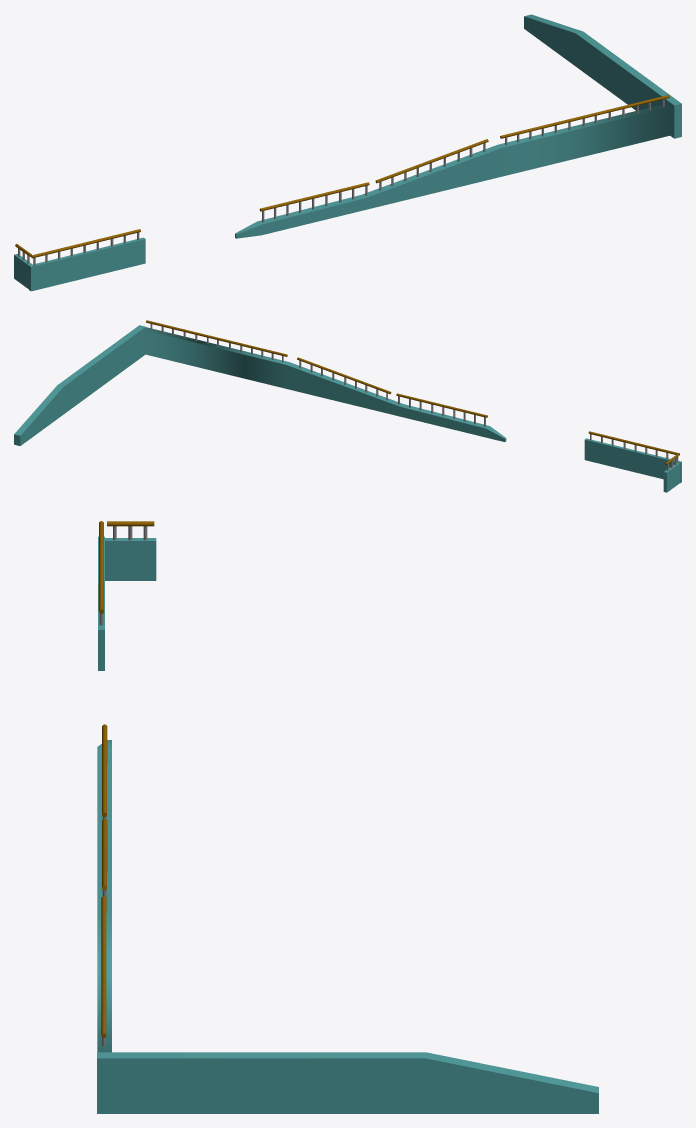
Rendered from railing_wall_s.fbx.
3 views of the same model, one above another, from view 1: azimuth 30°, elevation 25°; view 2: azimuth 150°, elevation 25°; view 3: azimuth 270°, elevation 25° (orthographic). The views are drawn at different scales.
Visible parts, largest first — view 1: railing_wall_2, railing_wall_3, railing_wall_1_3, railing_wall_1_4; view 2: railing_wall_2, railing_wall_3, railing_wall_1_3, railing_wall_1_4; view 3: railing_wall_3, railing_wall_2, railing_wall_1_4, railing_wall_1_3.
Part boxes in pixels (x1,y1,x2,y2): railing_wall_2: (235, 95, 674, 238); railing_wall_3: (524, 14, 681, 138); railing_wall_1_3: (29, 229, 145, 291); railing_wall_1_4: (14, 244, 32, 289); railing_wall_2: (142, 320, 506, 441); railing_wall_3: (14, 325, 145, 445); railing_wall_1_3: (584, 431, 681, 483); railing_wall_1_4: (663, 454, 679, 492); railing_wall_3: (97, 1052, 598, 1113); railing_wall_2: (97, 724, 111, 1052); railing_wall_1_4: (105, 521, 156, 580); railing_wall_1_3: (98, 521, 104, 670).
Bounding box in the file's own units: 1.55 × 0.0985 × 0.6217.
